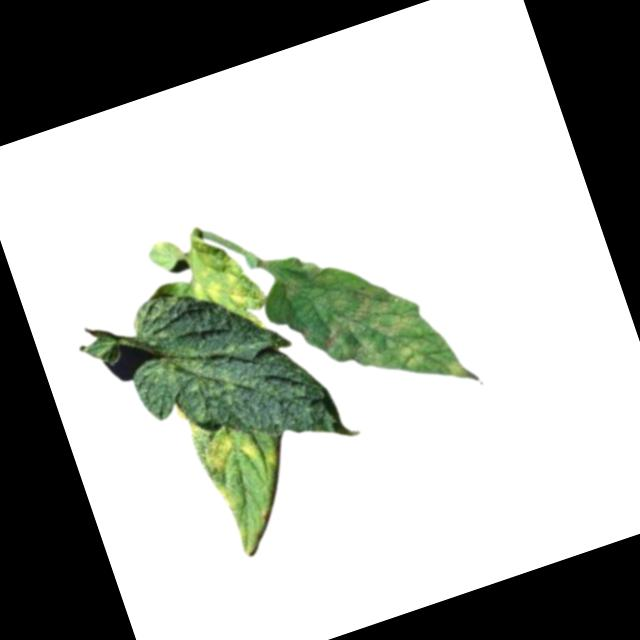Leaf_Mold: (288, 214, 476, 428), (177, 232, 270, 343), (192, 419, 263, 479), (213, 479, 248, 514), (261, 448, 284, 473)
